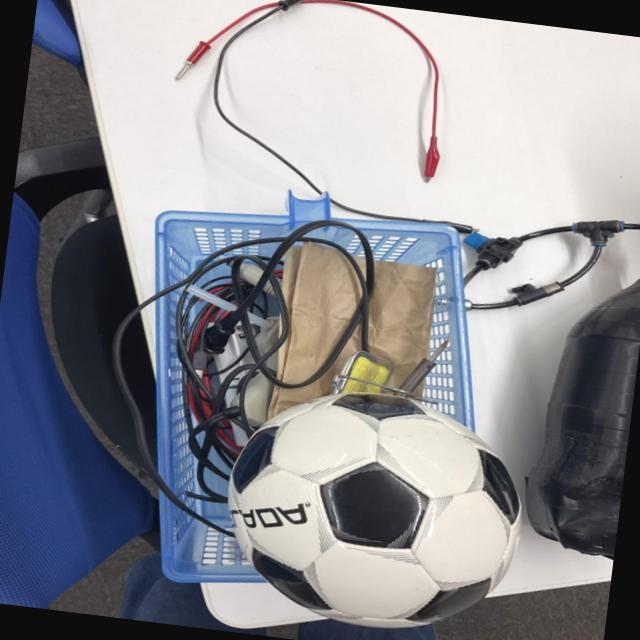Soccer Ball: (216, 379, 533, 640)
